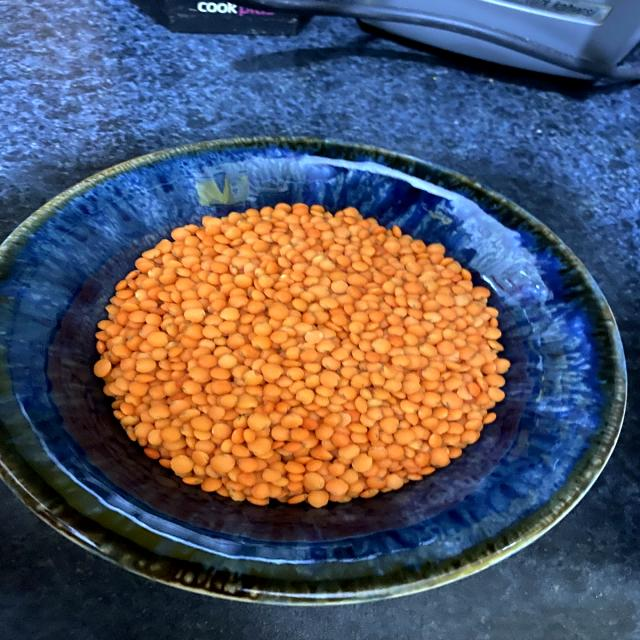red lentils: (25, 162, 612, 539)
